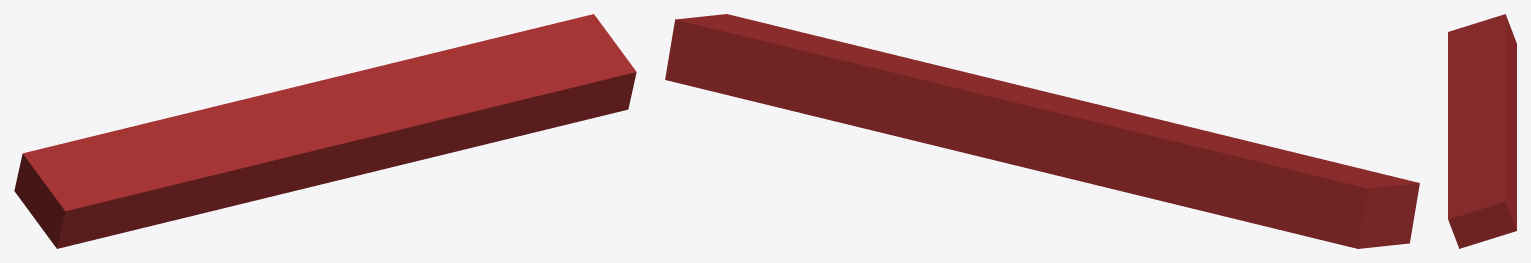
File: Asian_Prop_Building_Modular_Roof_Beam_04.FBX
3 views of the same model, side by side, from view 1: azimuth 30°, elevation 25°; view 2: azimuth 150°, elevation 25°; view 3: azimuth 270°, elevation 25° (orthographic). The views are drawn at different scales.
Visible parts, largest first — view 1: Asian_Prop_Building_Modular_Roof_Beam_04; view 2: Asian_Prop_Building_Modular_Roof_Beam_04; view 3: Asian_Prop_Building_Modular_Roof_Beam_04.
Boxes of the visible parts, <box> form: Asian_Prop_Building_Modular_Roof_Beam_04: <box>14,14,636,248</box>; Asian_Prop_Building_Modular_Roof_Beam_04: <box>665,14,1419,248</box>; Asian_Prop_Building_Modular_Roof_Beam_04: <box>1448,14,1516,248</box>.
Size of the model in its own units: 3178 by 374 by 492.
